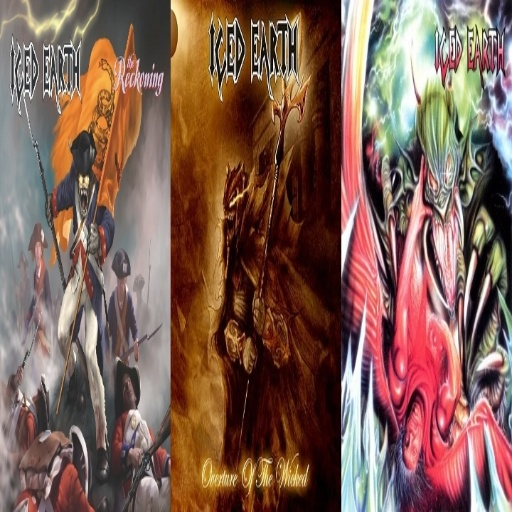hand: (411, 151, 435, 224), (130, 448, 143, 471), (14, 364, 22, 386), (131, 339, 139, 359)
